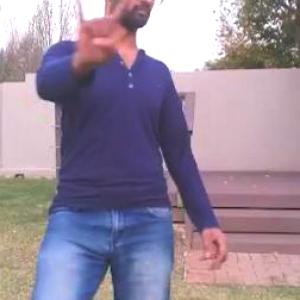takeoff-hand: (66, 0, 136, 85)
